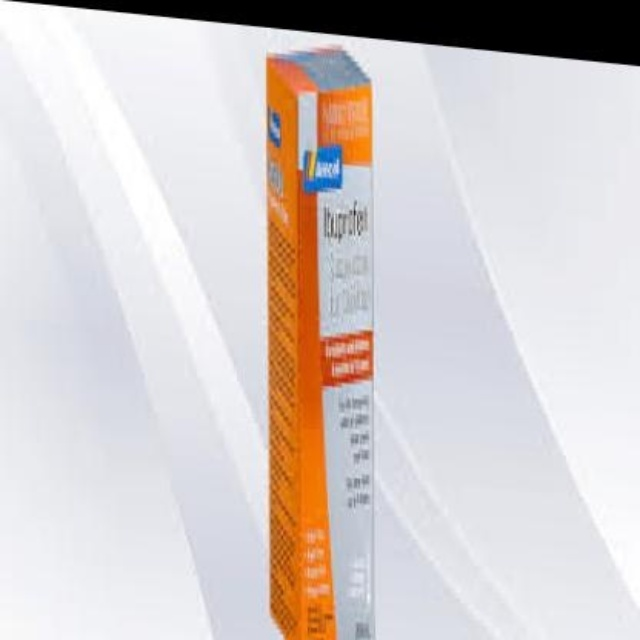trash: (266, 48, 372, 638)
